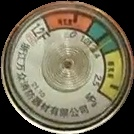green: (89, 19, 119, 52)
needle: (89, 39, 116, 55)
red: (43, 12, 94, 35)
yellow: (100, 50, 125, 102)
